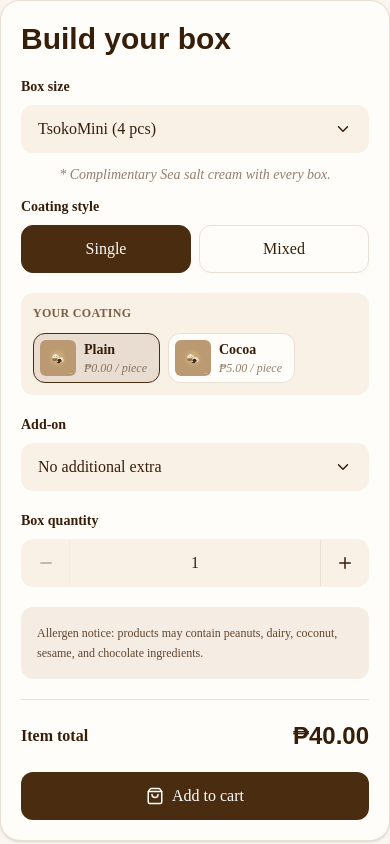
mobile coating discovery › selects a mobile coating and updates the price
Click the radio button labelled "Cocoa" at (232, 358), box [168, 333, 295, 383]
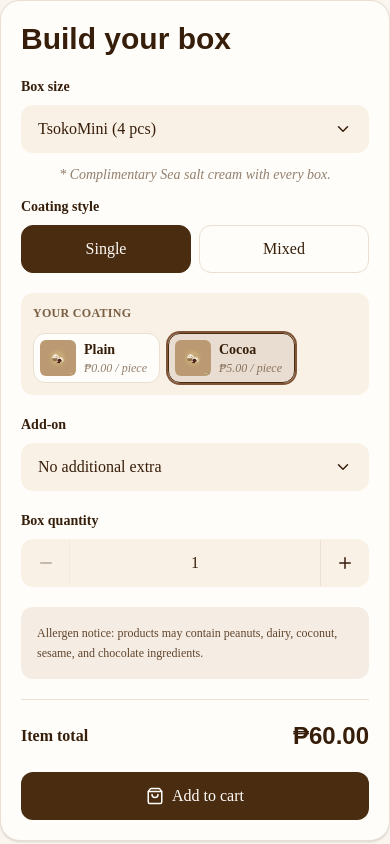
expect the radio button labelled "Cocoa" is checked: met, box [168, 333, 295, 383]
expect the text "₱60.00" is shown: met, box [293, 720, 369, 752]
